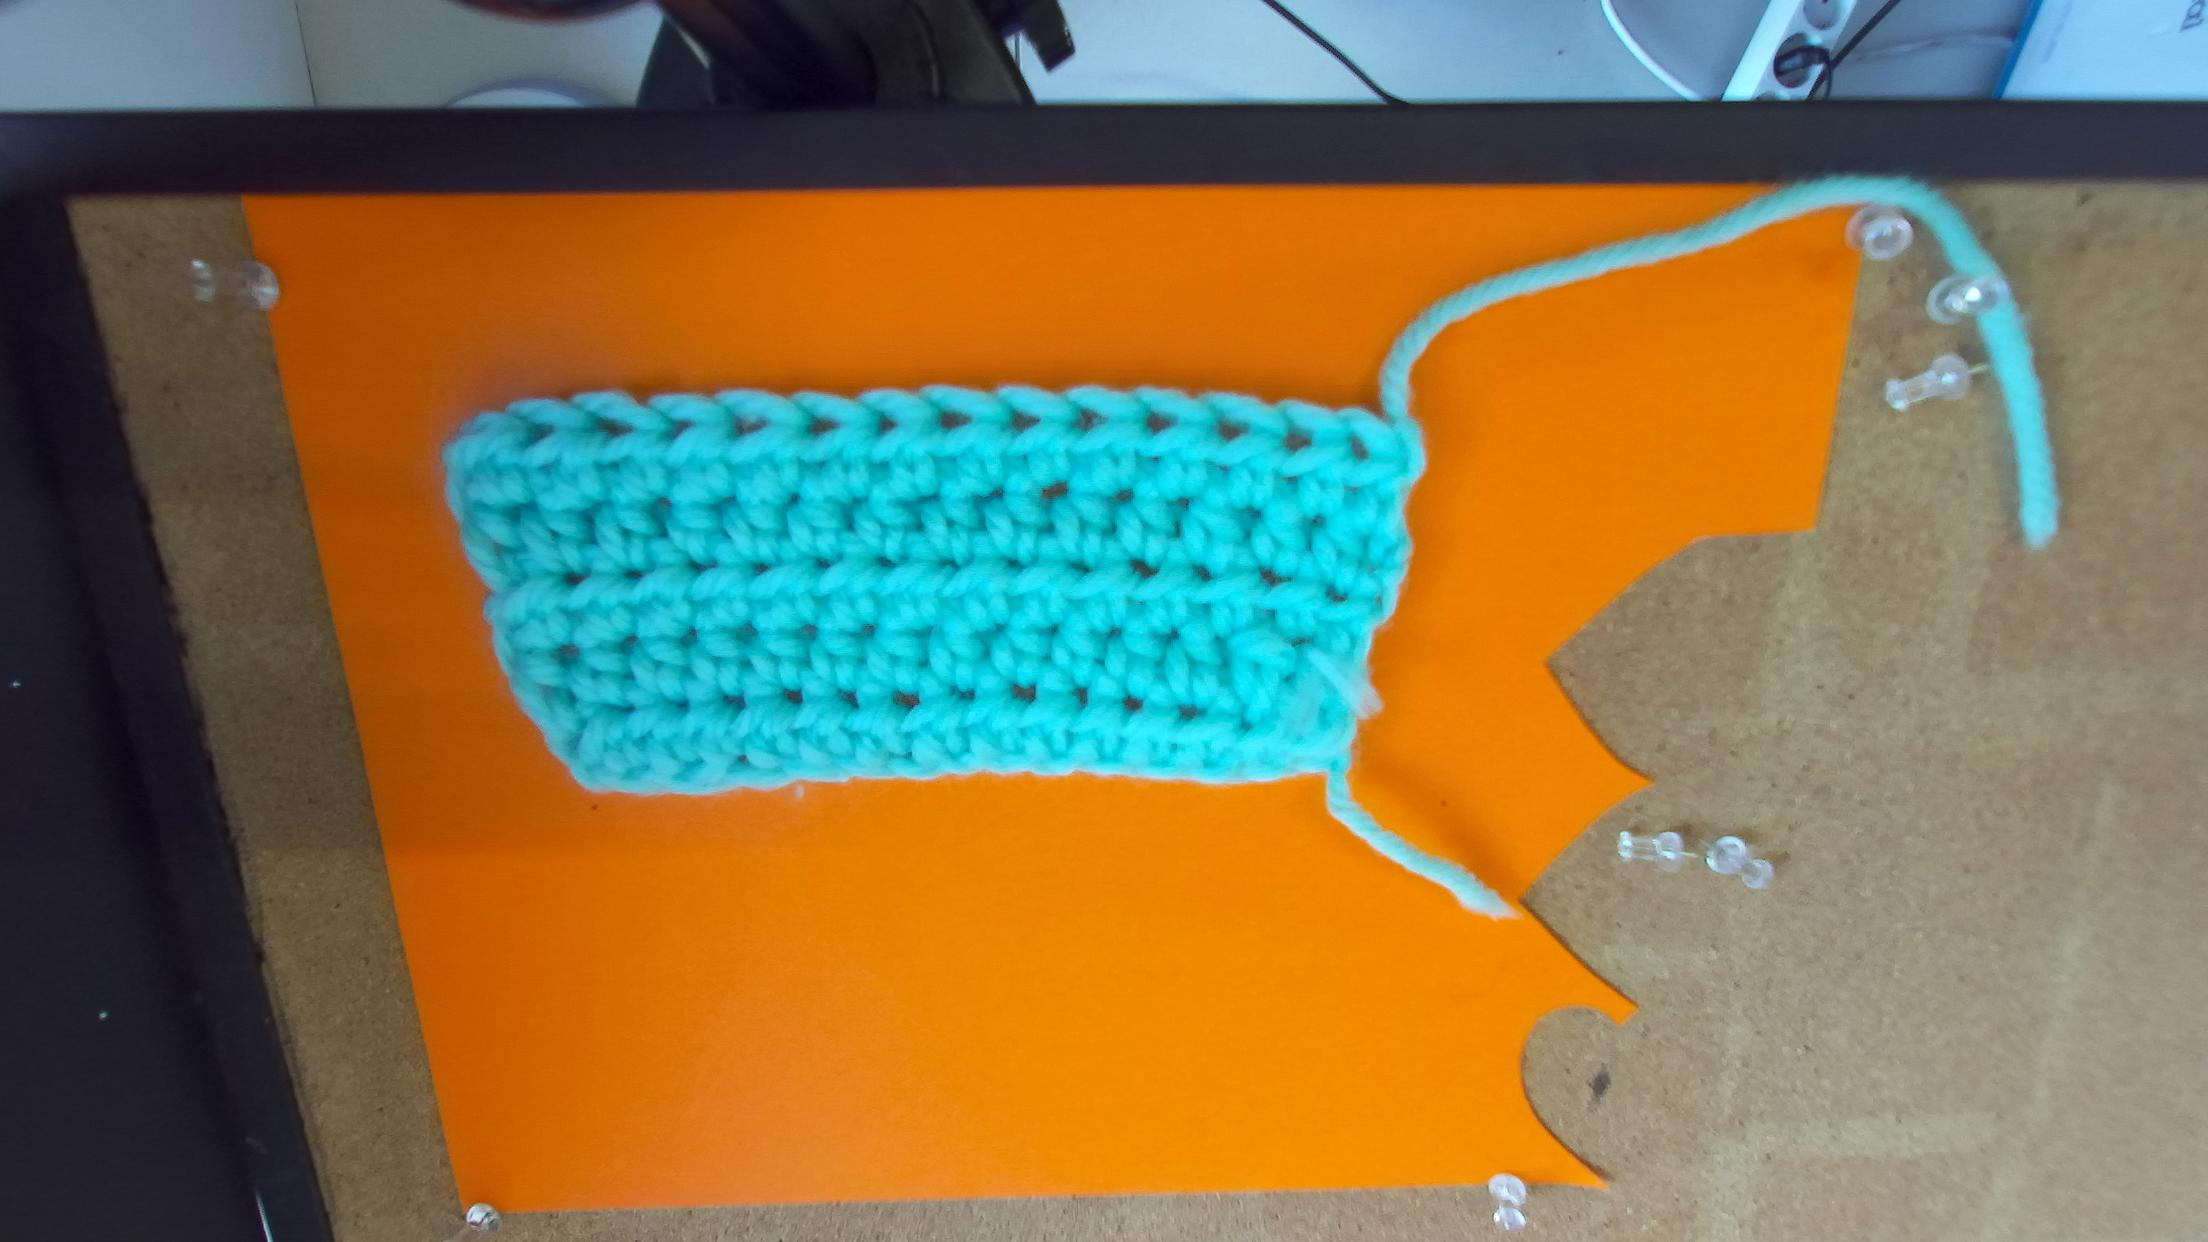hole: (582, 412, 635, 441), (726, 408, 776, 438), (804, 412, 848, 440), (1210, 419, 1253, 446), (1005, 405, 1043, 435), (520, 420, 558, 449), (1072, 406, 1110, 435), (1140, 411, 1178, 438), (660, 419, 699, 443), (936, 408, 971, 432), (1281, 428, 1313, 453), (873, 411, 901, 438), (1345, 429, 1366, 459)
swatch: (438, 387, 1422, 801)
